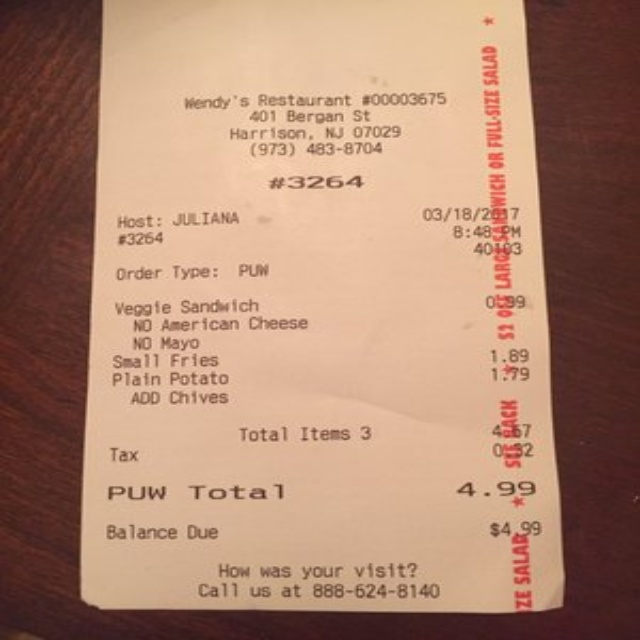invoice_table: (113, 294, 529, 404)
invoice_title: (185, 92, 447, 156)
invoice_total: (107, 521, 542, 540)
